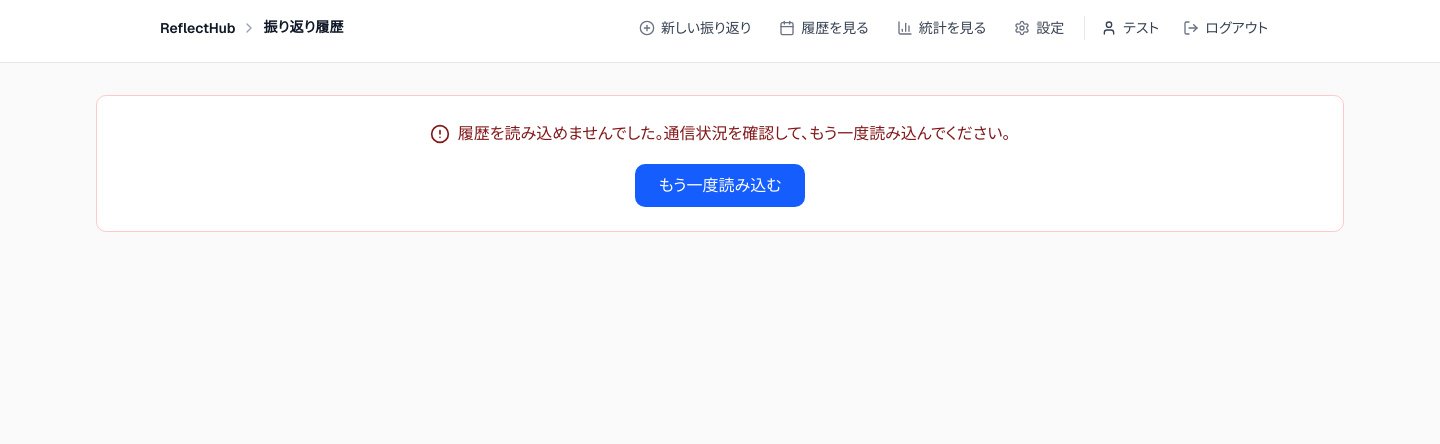
Test: HistoryPage › 取得に失敗したときは「記録がない」と区別し、再読み込みで回復できる
Check: the message shows "履歴を読み込めませんでした", box [458,123,1010,144]
Check: the text "まだ振り返りがありません" is not shown
Click the button "もう一度読み込む" at x=720, y=186, box [635,164,805,207]
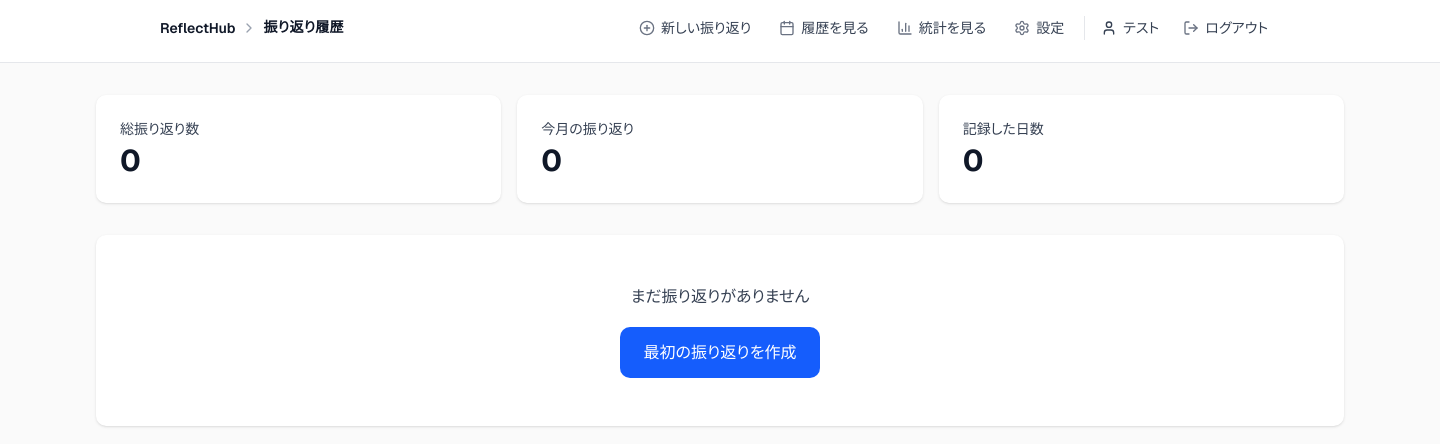
Check: the text "まだ振り返りがありません" is shown, box [631,286,809,307]
Check: the message "履歴を読み込めませんでした。通信状況を確認して、もう一度読み込んでください。 もう一度読み込む" is gone
